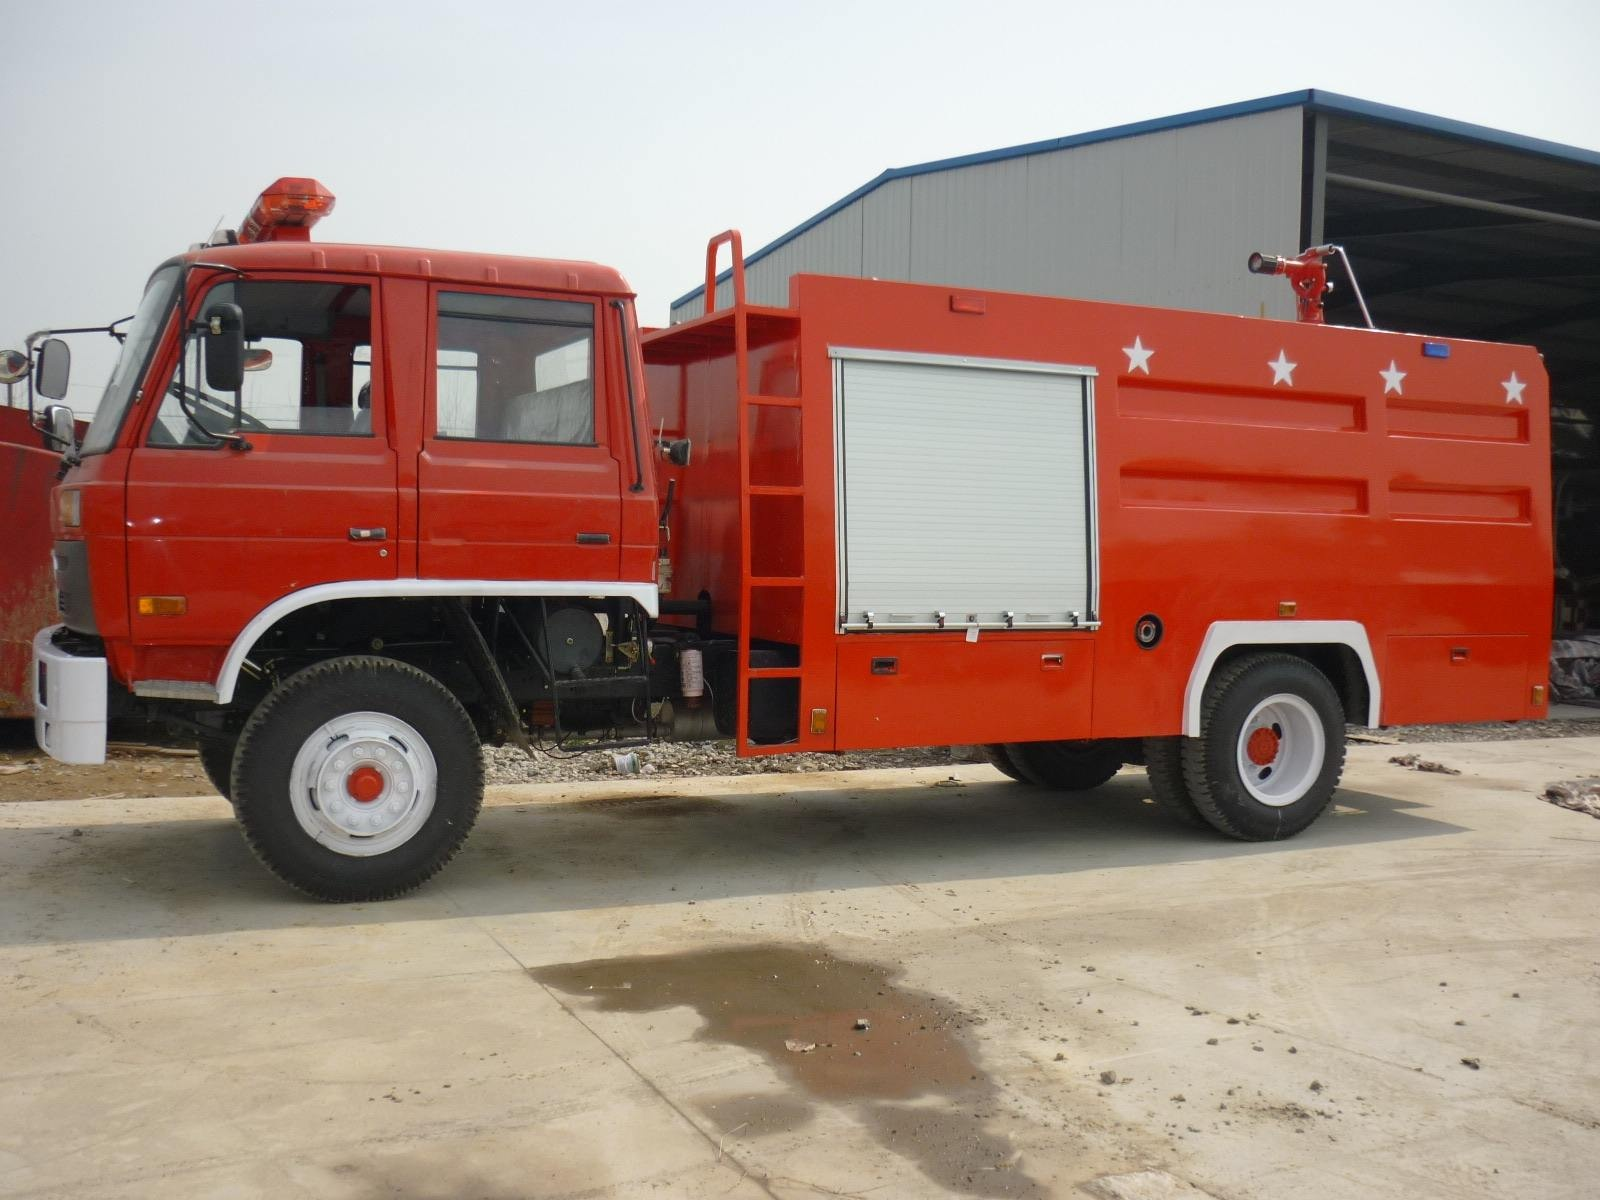fire engine: (66, 175, 1569, 939)
